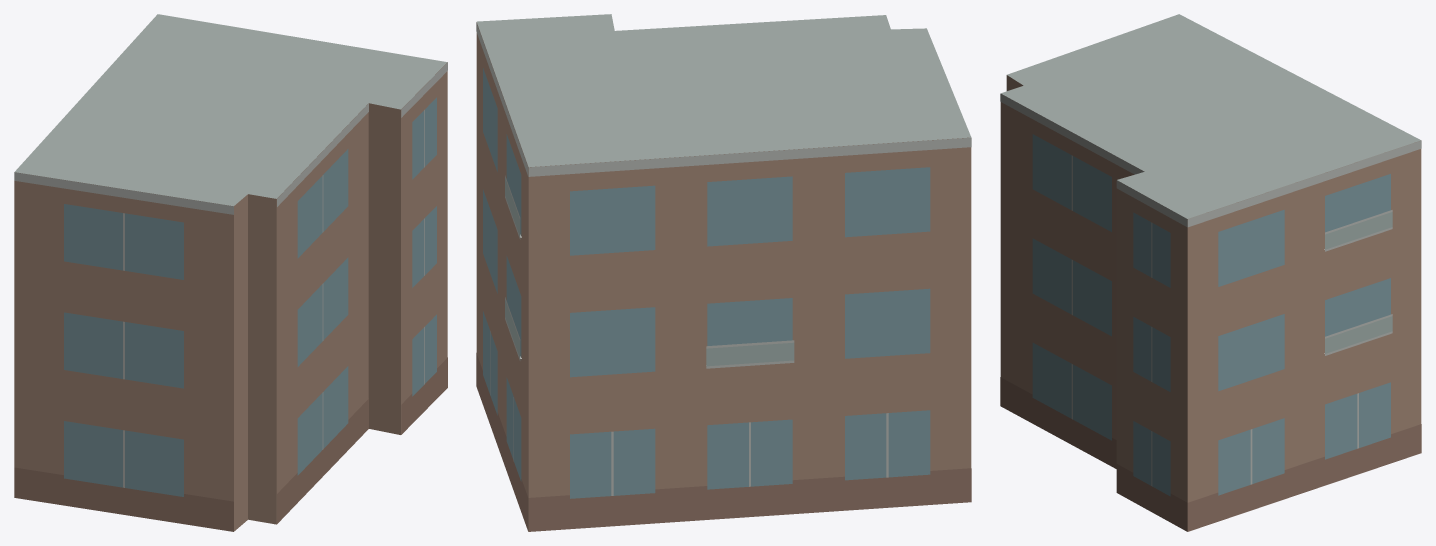
Rendered from survey-upis-32586050.glb.
The picture shows the model from 3 angles, left to right: view 1: azimuth 30°, elevation 25°; view 2: azimuth 150°, elevation 25°; view 3: azimuth 270°, elevation 25°; orthographic projection. The views are drawn at different scales.
Visible parts, largest first — view 1: survey-upis-32586050.tmp; view 2: survey-upis-32586050.tmp; view 3: survey-upis-32586050.tmp.
Boxes of the visible parts, x1,y1,x2,y2 form: survey-upis-32586050.tmp: [14, 14, 447, 531]; survey-upis-32586050.tmp: [476, 14, 971, 531]; survey-upis-32586050.tmp: [1000, 14, 1421, 531].
Size of the model in its own units: 12.88 by 9.15 by 11.17.
